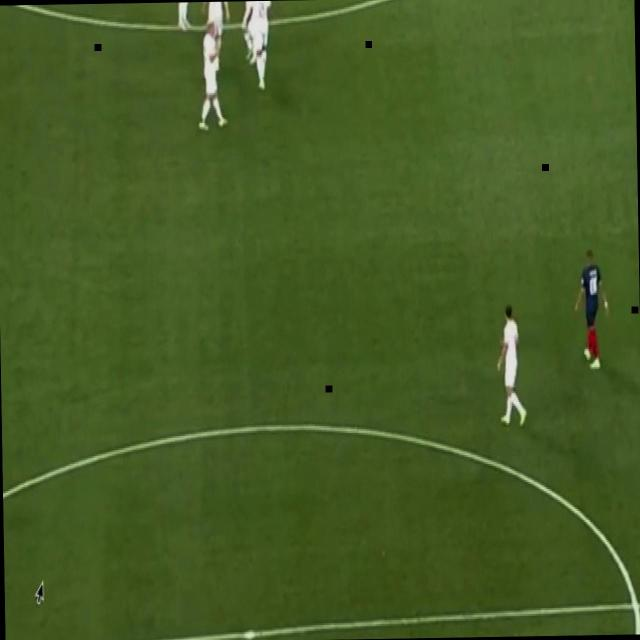player-white: (572, 245, 610, 373), (496, 303, 528, 427), (197, 22, 229, 132), (202, 1, 232, 66), (254, 1, 274, 91), (242, 1, 262, 67), (176, 2, 196, 30)
